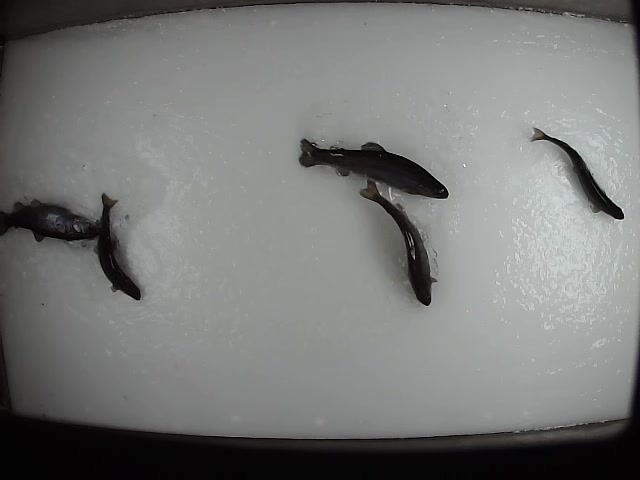Fish: (360, 179, 437, 306), (299, 139, 449, 199), (531, 127, 625, 220), (100, 193, 140, 303)
